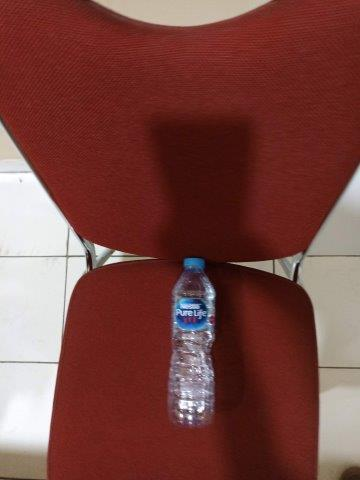botolplastik: (168, 256, 214, 430)
